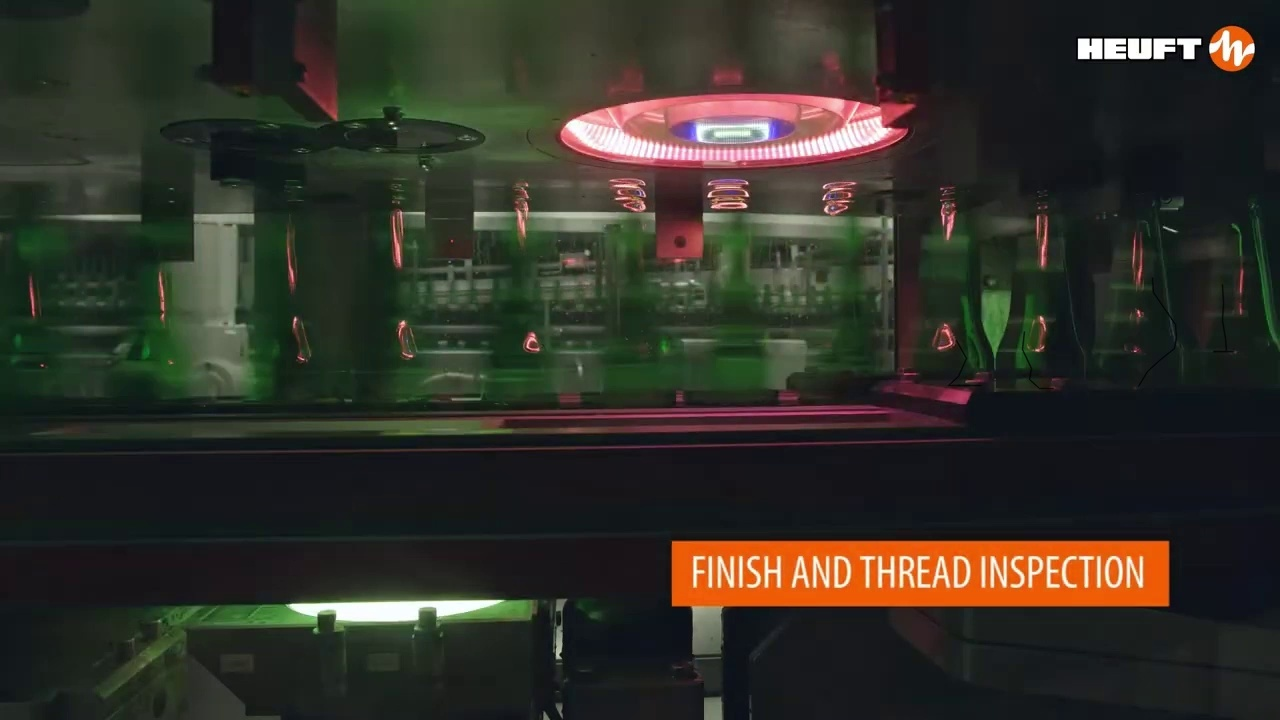bottle: (1000, 184, 1088, 392), (1091, 195, 1186, 384), (910, 181, 997, 386), (1201, 198, 1279, 352)
crack: (1138, 277, 1176, 386), (1022, 331, 1053, 388), (948, 340, 981, 385), (1213, 284, 1233, 351)
